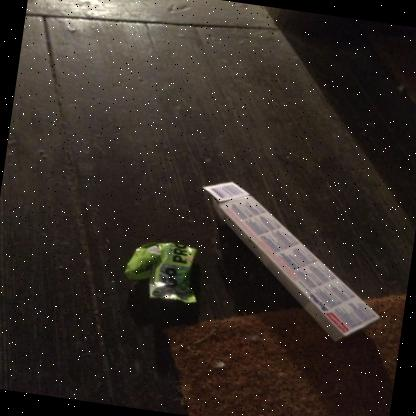Other carton: (201, 181, 381, 342)
Other plastic: (124, 241, 198, 303)
